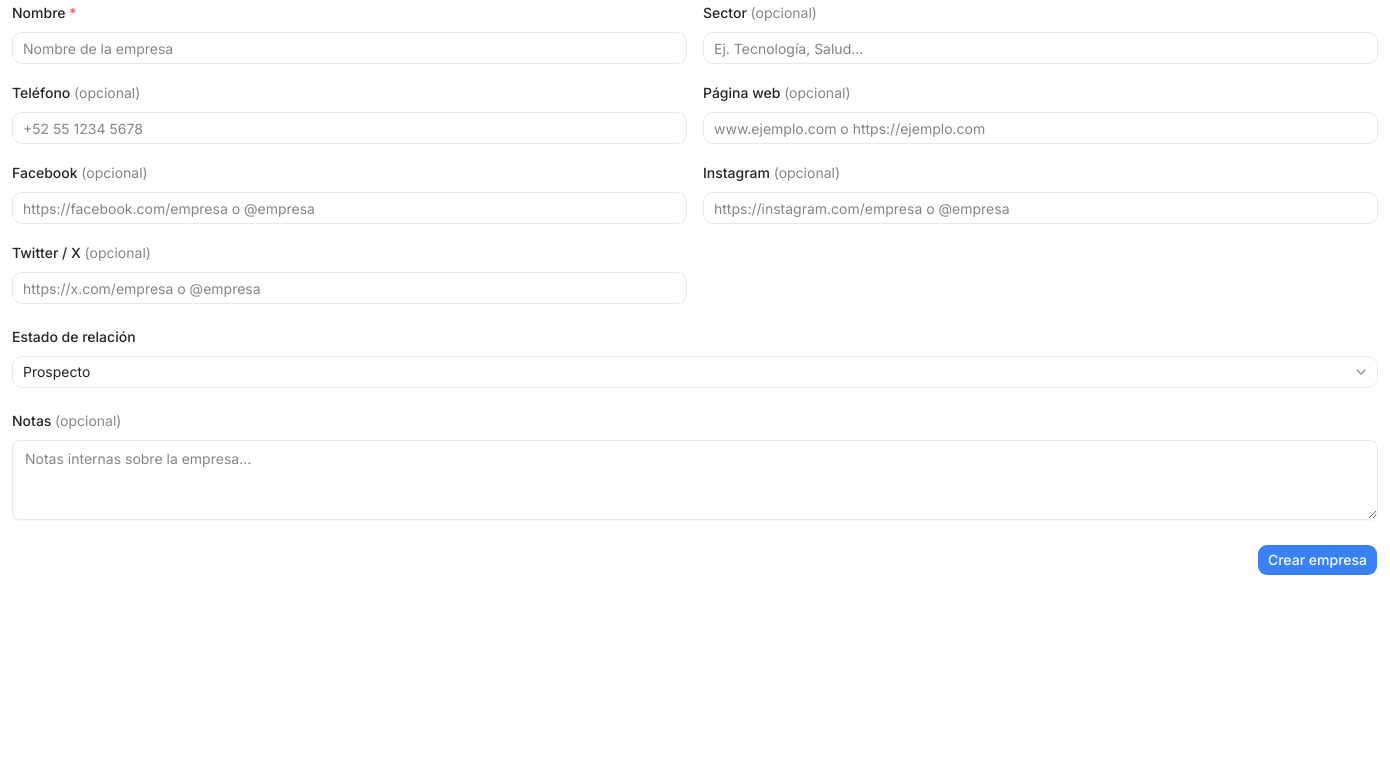
Test case: EmpresaForm › blocks a duplicate name on create without invoking submit
Step 1. Type "  innovatech solutions " into the field labelled "Nombre *" → point(350, 48), box 12,32 -> 687,64
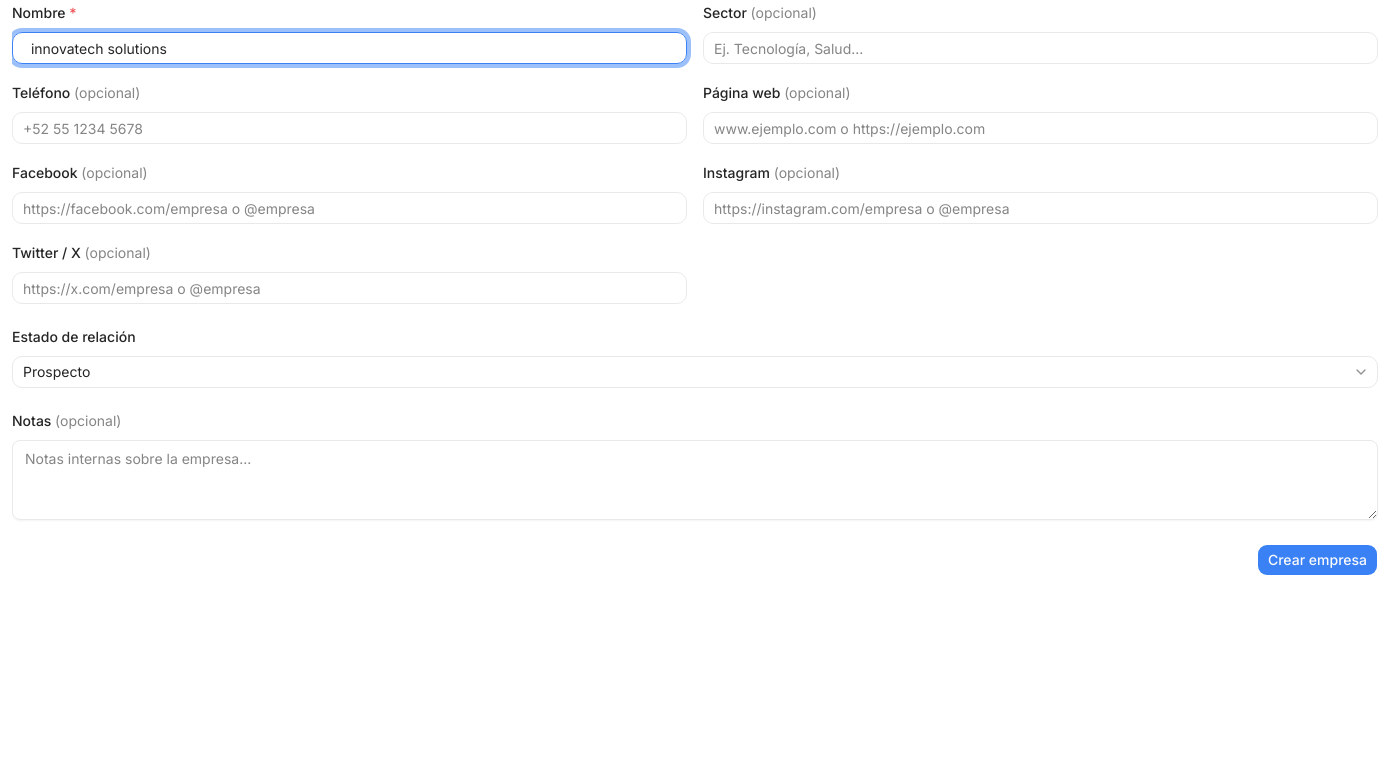
Step 2. Click the button "Crear empresa" → point(1318, 560), box 1257,544 -> 1378,576
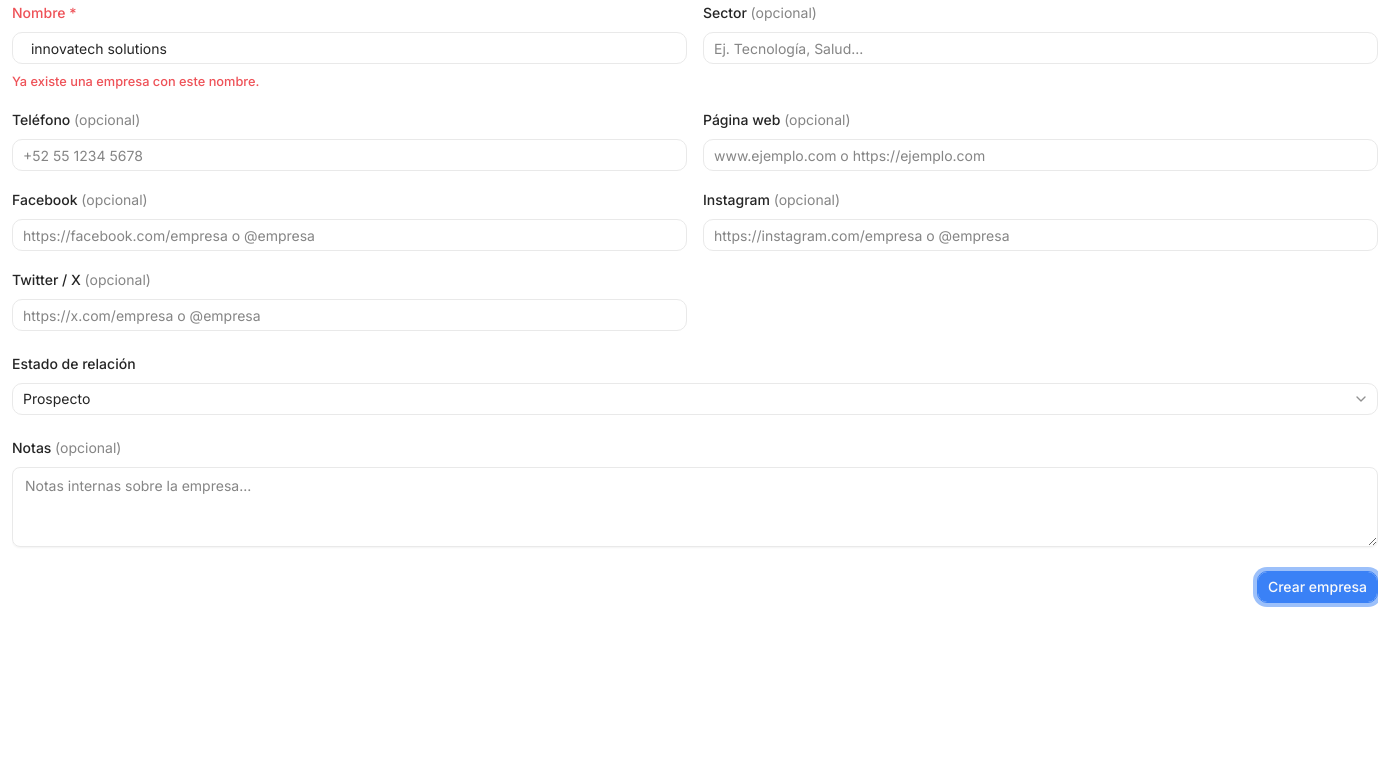
Now the text "Ya existe una empresa con este nombre." is shown, box 12,74 -> 260,89
